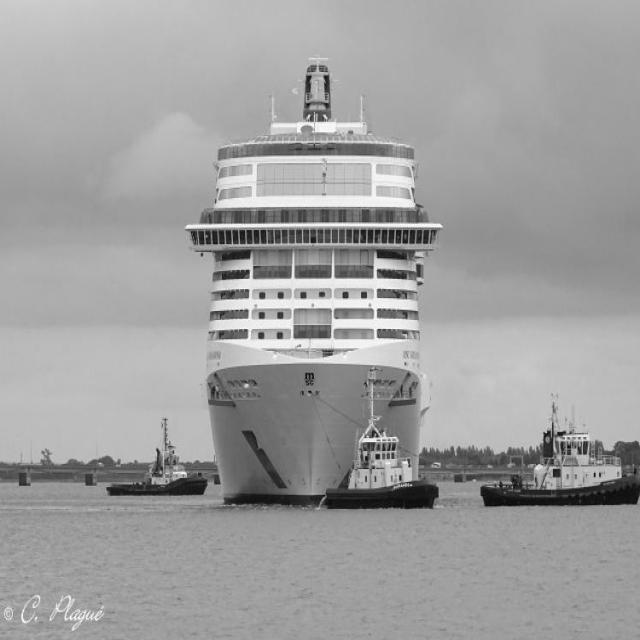cruises: (177, 49, 461, 520)
